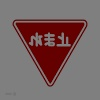Regulatory_sign_triangle: (12, 16, 91, 89)
